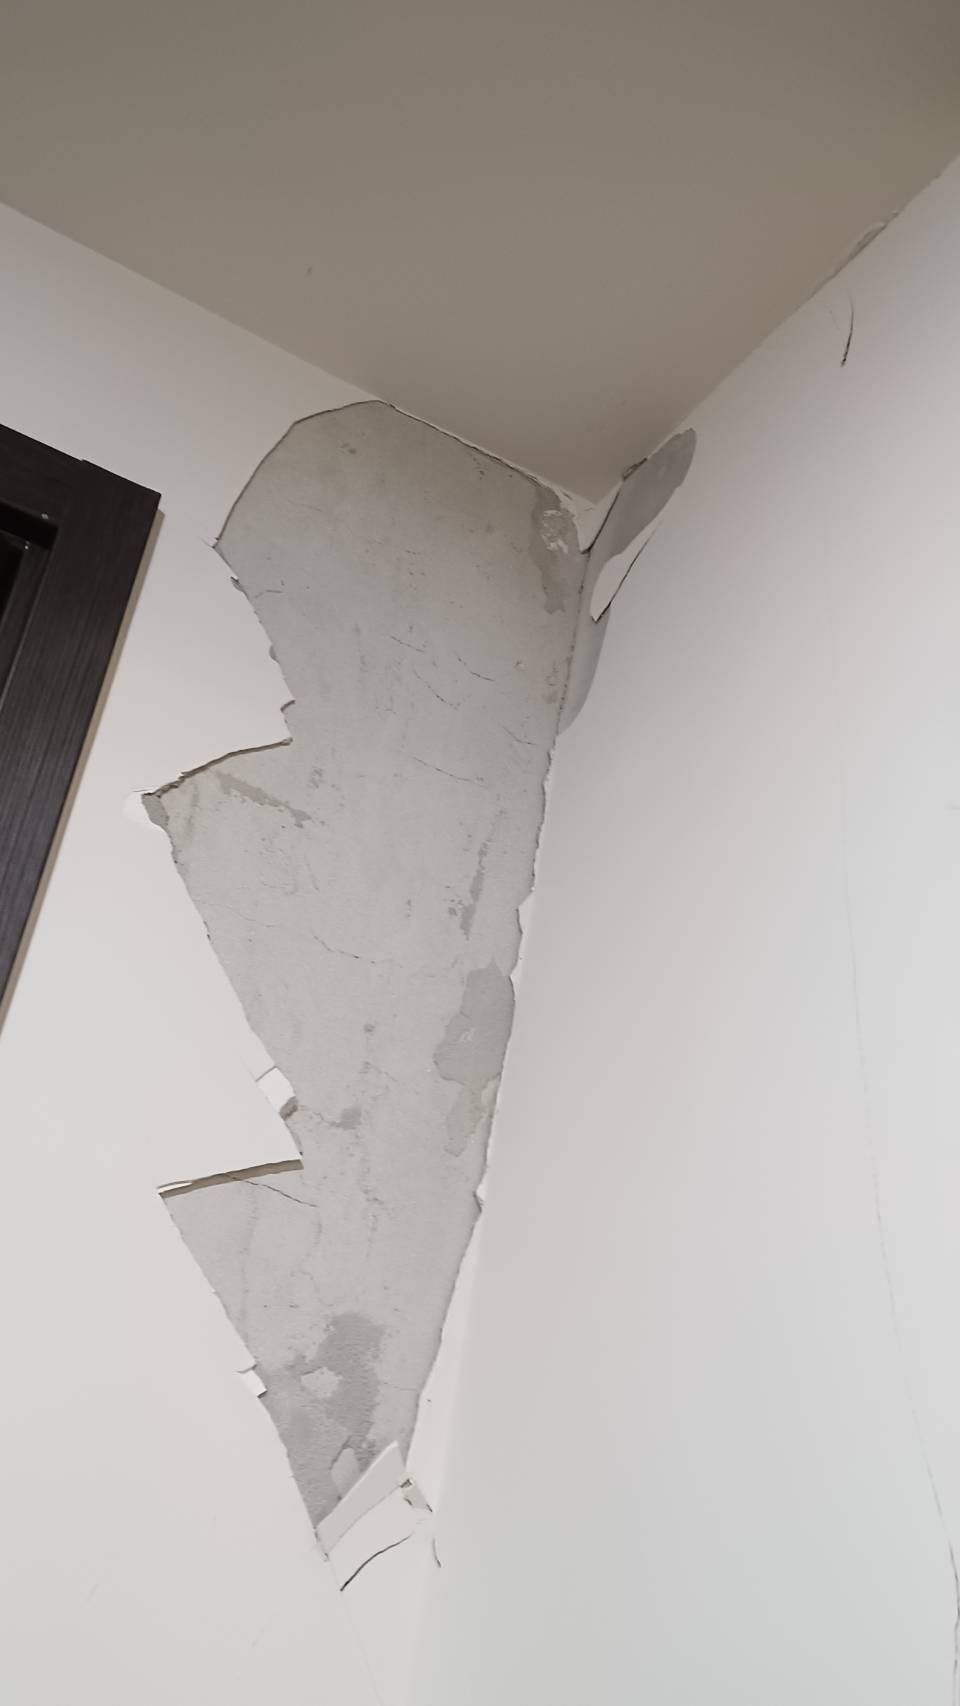Low: (120, 350, 753, 1596)
